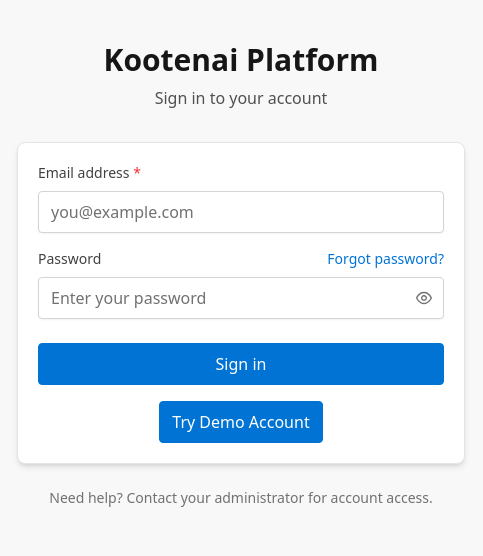
Test: LoginView › login flow › should display API error message if available
Type "user@example.com" into the field with id "email". click: (241, 212)
box: [38,191,444,233]
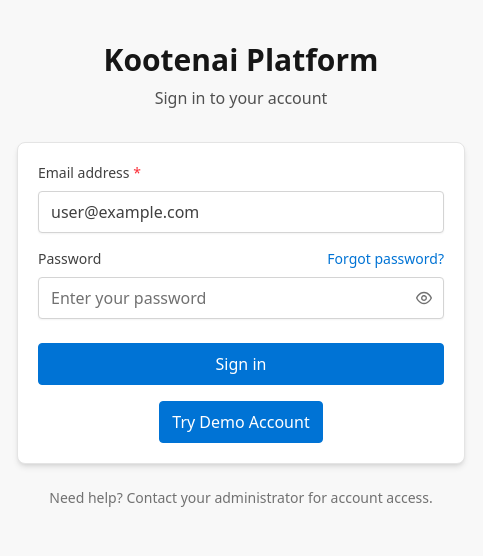
Submit the form, box [38,163,444,443]
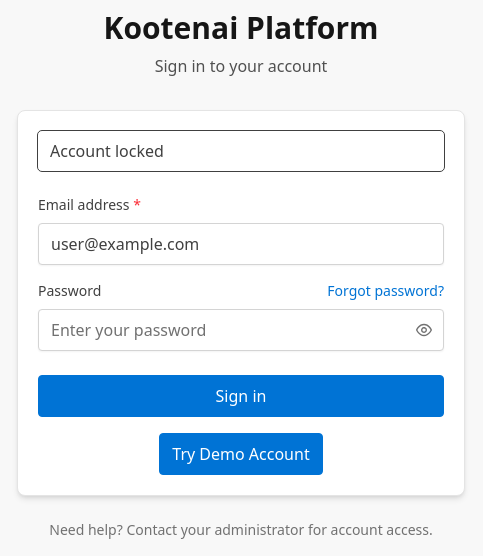
Check: the text "Account locked" is shown, box [50,139,164,163]
